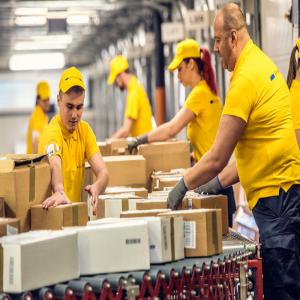none: (213, 3, 248, 74)
yellow: (57, 67, 86, 135), (174, 36, 204, 90), (110, 57, 131, 93), (36, 81, 53, 114)
